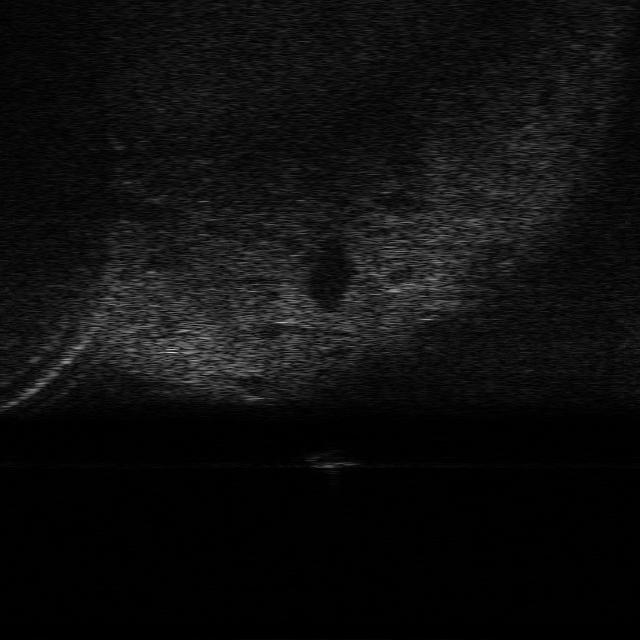cube: (304, 452, 362, 470)
